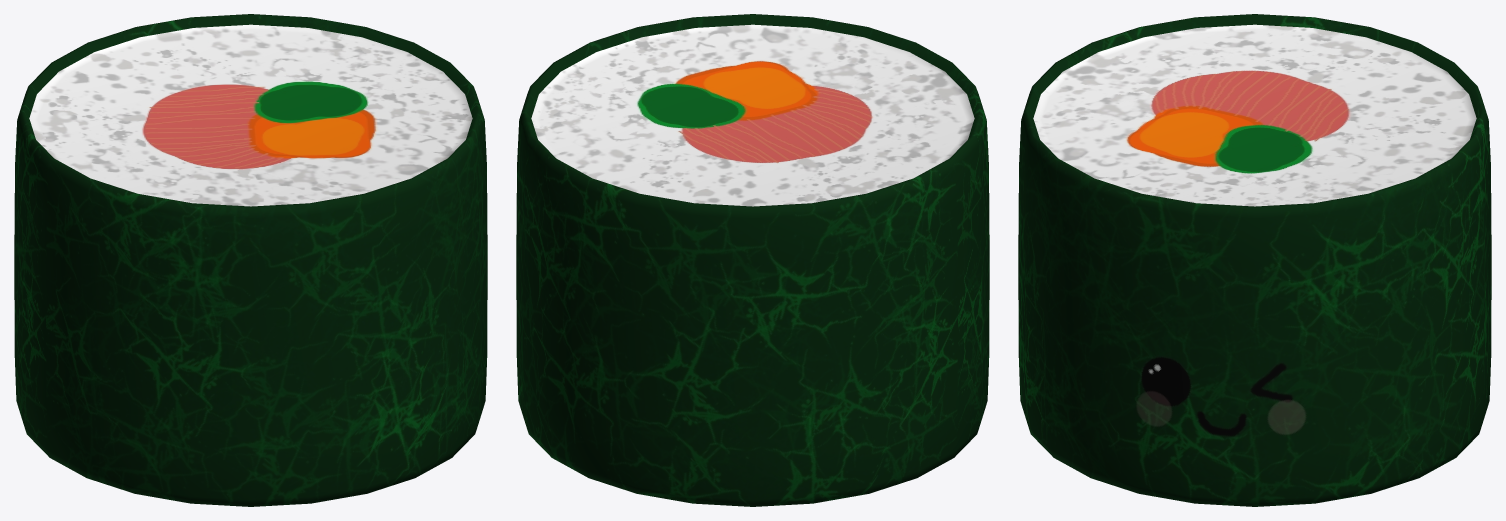
The model's file is maki -pozitivni.fbx.
3 views of the same model, side by side, from view 1: azimuth 30°, elevation 25°; view 2: azimuth 150°, elevation 25°; view 3: azimuth 270°, elevation 25° (orthographic).
Parts seen in each view (by area): view 1: maki sushi; view 2: maki sushi; view 3: maki sushi.
Boxes of the visible parts, x1,y1,x2,y2 form: maki sushi: [14, 14, 487, 506]; maki sushi: [516, 14, 989, 506]; maki sushi: [1018, 14, 1491, 506].
Bounding box in the file's own units: 61.32 × 42.74 × 61.32.
Materials: 1 (1 with a texture image).
